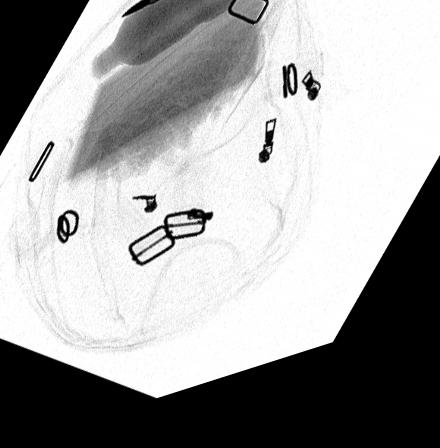Bullet: (118, 0, 180, 25)
